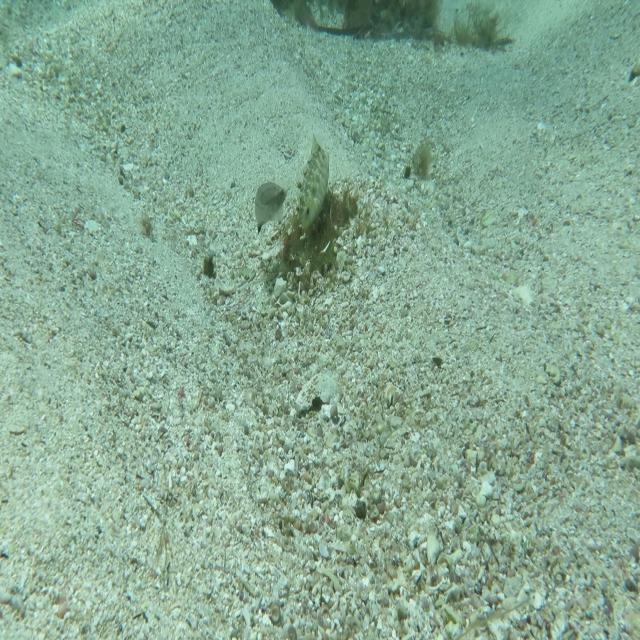ROLL: (292, 128, 332, 238)
female: (250, 175, 289, 242)
nest: (258, 172, 362, 308)
